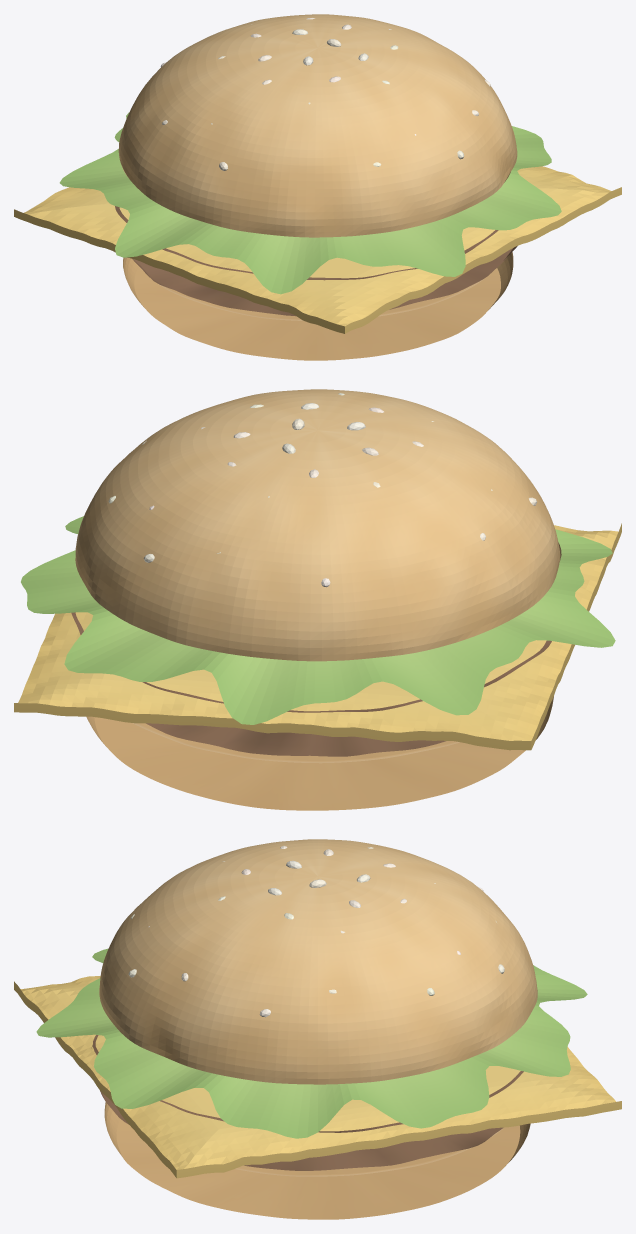
The model's file is burger.glb.
The picture shows the model from 3 angles, top to bottom: view 1: azimuth 30°, elevation 25°; view 2: azimuth 150°, elevation 25°; view 3: azimuth 270°, elevation 25°; orthographic projection. The views are drawn at different scales.
Parts seen in each view (by area): view 1: pao_cima, alface, queijo, pao_baixo, carne, gergelim; view 2: pao_cima, alface, queijo, pao_baixo, carne, gergelim; view 3: pao_cima, alface, queijo, pao_baixo, carne, gergelim.
Boxes of the visible parts, x1,y1,x2,y2 form: pao_cima: (118, 14, 517, 237); alface: (59, 112, 561, 294); queijo: (14, 166, 621, 333); pao_baixo: (123, 252, 513, 360); carne: (115, 206, 517, 316); gergelim: (160, 18, 490, 170); pao_cima: (75, 389, 561, 661); alface: (21, 516, 615, 724); queijo: (14, 523, 621, 750); pao_baixo: (86, 696, 553, 810); carne: (71, 612, 551, 756); gergelim: (108, 393, 536, 587); pao_cima: (99, 839, 537, 1084); alface: (36, 948, 587, 1138); queijo: (14, 976, 621, 1178); pao_baixo: (104, 1102, 530, 1219); carne: (92, 1035, 523, 1170); gergelim: (128, 846, 504, 1017).
Bounding box in the file's own units: 2.95 × 1.47 × 2.95.
